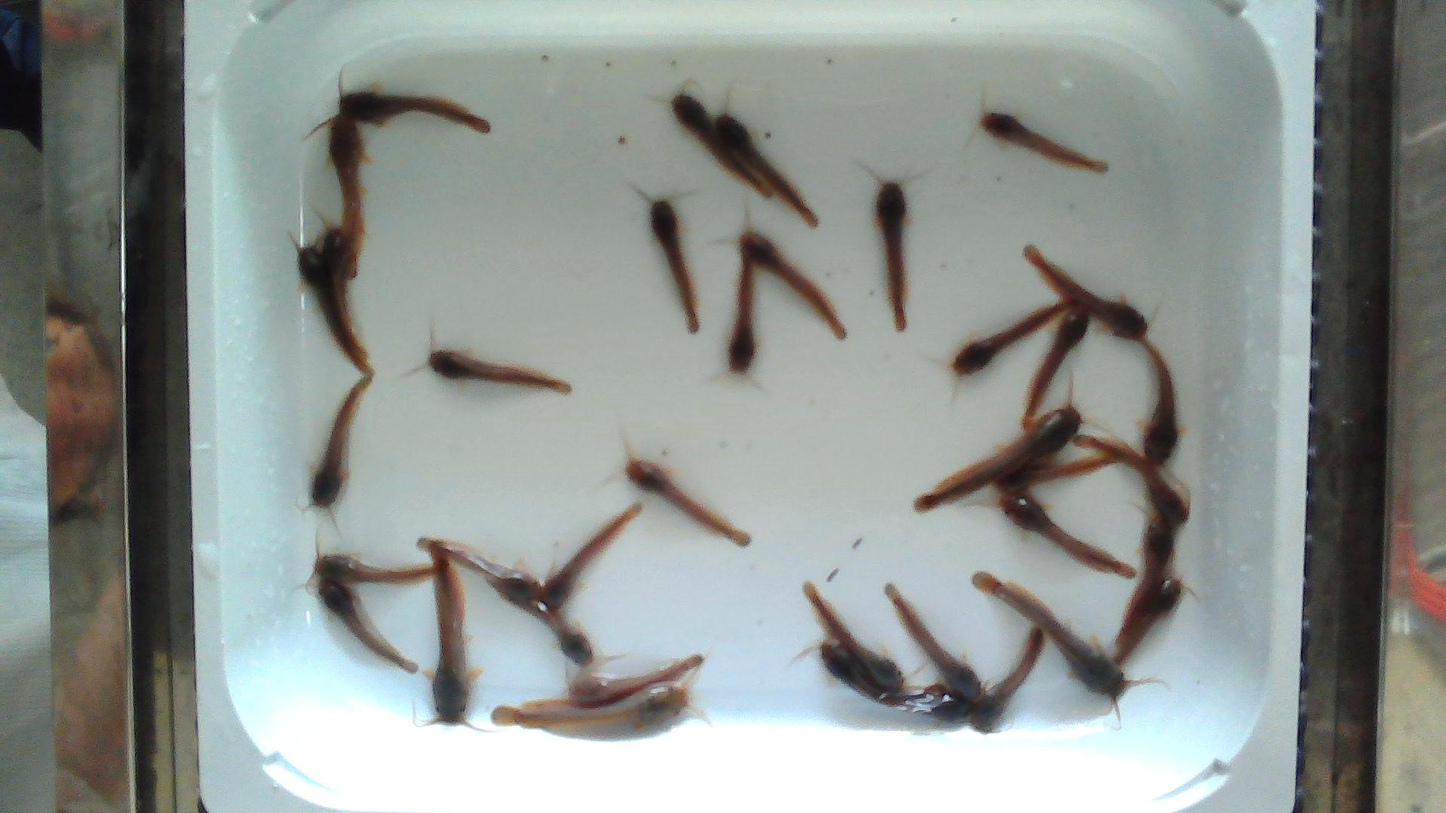lele: (973, 573, 1123, 698), (914, 406, 1081, 510), (884, 585, 984, 710), (999, 489, 1133, 577), (1026, 247, 1149, 341), (716, 115, 819, 226), (803, 586, 904, 694), (627, 458, 750, 546), (537, 504, 641, 608), (742, 233, 845, 335), (676, 92, 769, 196), (1078, 436, 1189, 523), (299, 246, 374, 374), (315, 576, 414, 667), (498, 683, 687, 728), (424, 541, 470, 723), (952, 303, 1062, 375), (313, 375, 372, 508), (822, 641, 944, 705), (969, 626, 1042, 732), (498, 590, 595, 667), (421, 539, 543, 600), (981, 113, 1107, 172), (1023, 312, 1089, 418), (651, 199, 699, 333), (569, 656, 703, 702), (428, 350, 571, 393), (339, 92, 495, 131), (1113, 579, 1181, 664), (323, 229, 367, 356), (994, 449, 1121, 493), (1136, 338, 1178, 466), (1125, 518, 1174, 622), (875, 182, 907, 331), (330, 116, 364, 253), (317, 556, 438, 585), (729, 259, 757, 375), (863, 692, 969, 721)
